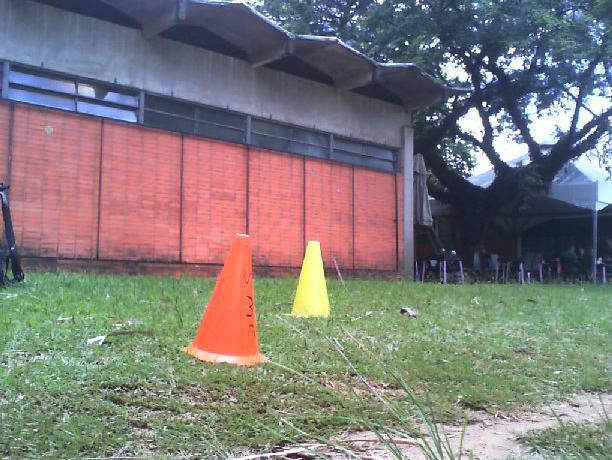0 cone: (181, 234, 270, 366), (286, 241, 330, 318)
